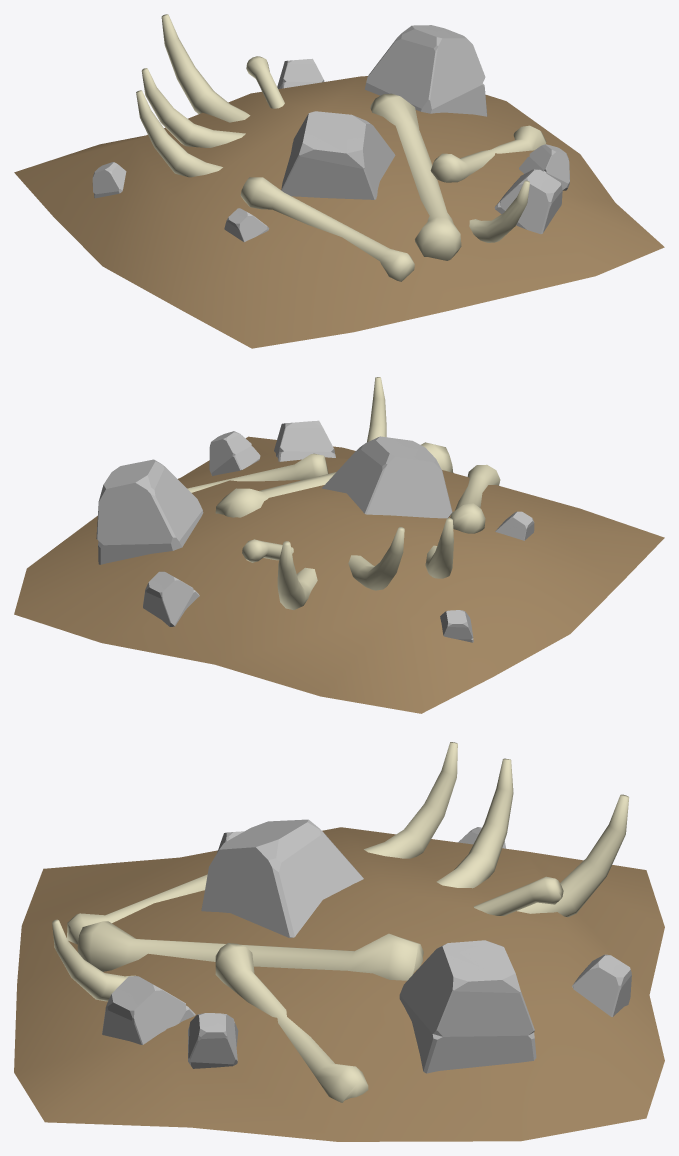
The model's file is BonesBox_8.fbx.
3 views of the same model, one above another, from view 1: azimuth 30°, elevation 25°; view 2: azimuth 150°, elevation 25°; view 3: azimuth 270°, elevation 25° (orthographic). The views are drawn at different scales.
Parts seen in each view (by area): view 1: bones.007; view 2: bones.007; view 3: bones.007.
Part boxes in pixels (bbox=[...]): bones.007: bbox=[14, 14, 664, 348]; bones.007: bbox=[14, 377, 664, 713]; bones.007: bbox=[14, 742, 664, 1141].
Size of the model in its own units: 428 by 113 by 406.
